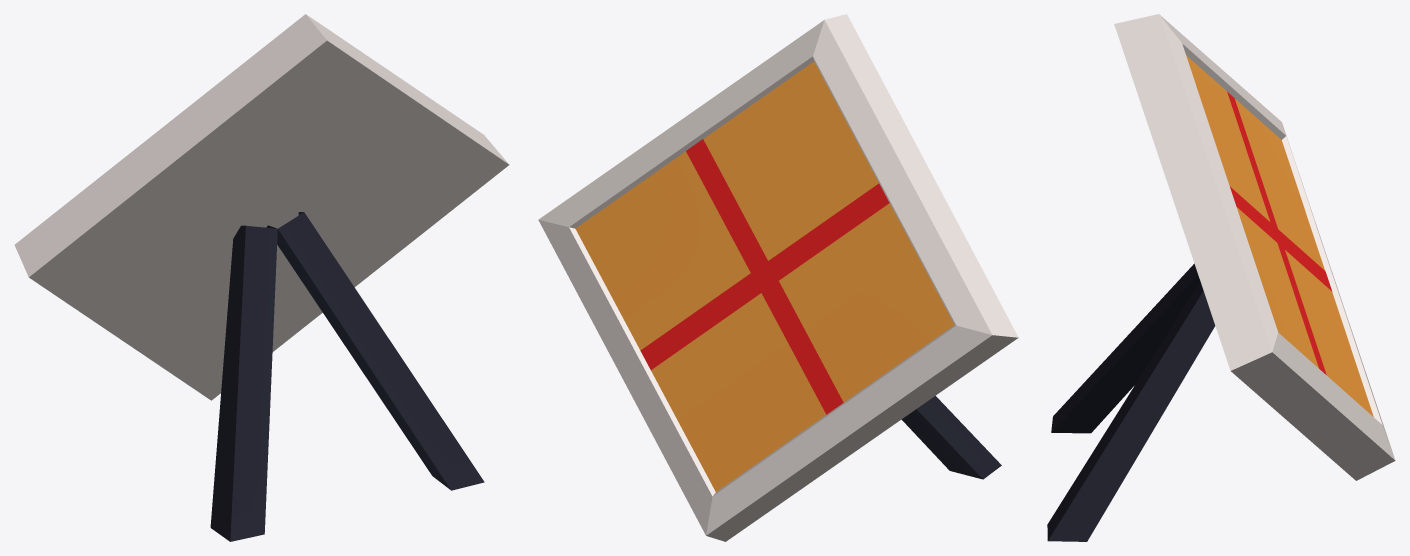
Rendered from SignX.fbx.
3 views of the same model, side by side, from view 1: azimuth 30°, elevation 25°; view 2: azimuth 150°, elevation 25°; view 3: azimuth 270°, elevation 25° (orthographic). The views are drawn at different scales.
Visible parts, largest first — view 1: SignX; view 2: SignX; view 3: SignX.
Boxes of the visible parts, left/top/right/bottom form: SignX: left=14, top=14, right=509, bottom=541; SignX: left=538, top=14, right=1018, bottom=541; SignX: left=1047, top=14, right=1395, bottom=541.
Size of the model in its own units: 64.26 by 59.17 by 40.1.
